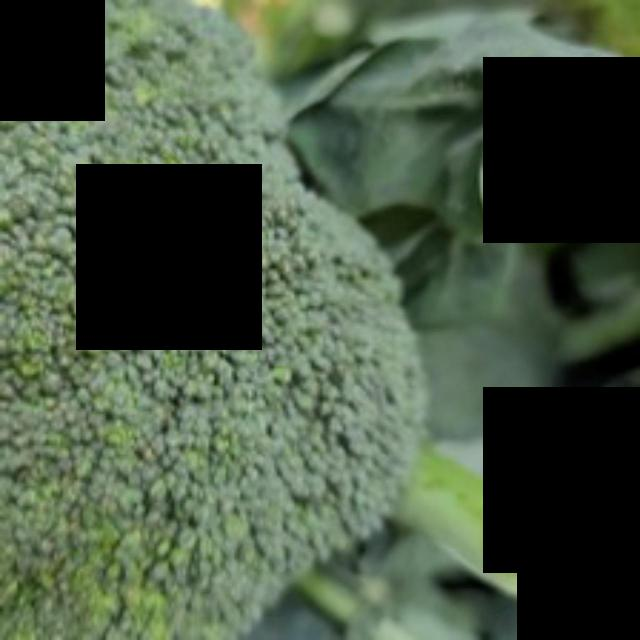broccoli: (0, 0, 437, 637)
